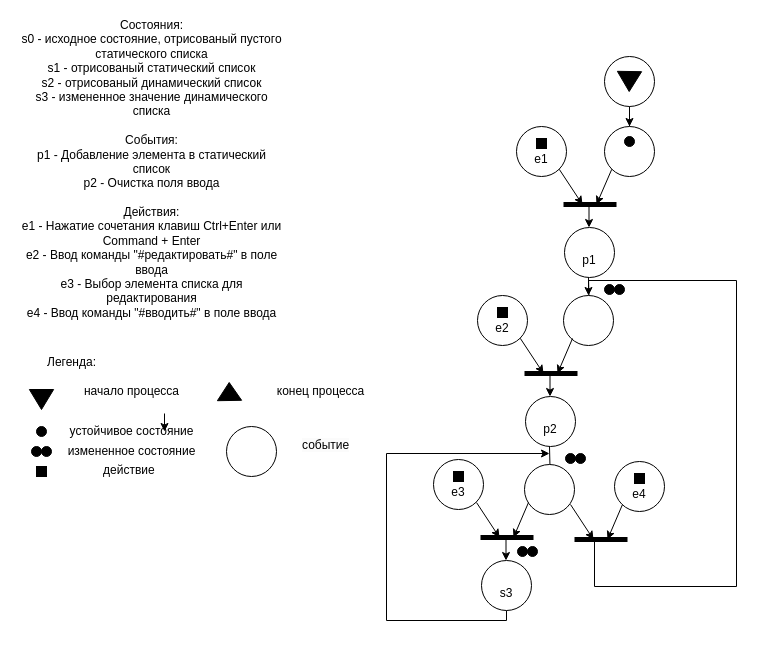
Some shapes in this 762 by 646 pixel diagram are drawn without their labels. The shapes that lost their labels are listed below. From the top down, each one's centre as x and y in pixels, then its label:
At point 629,151: "s0".
At point 588,320: "s1".
At point 549,489: "s2".
